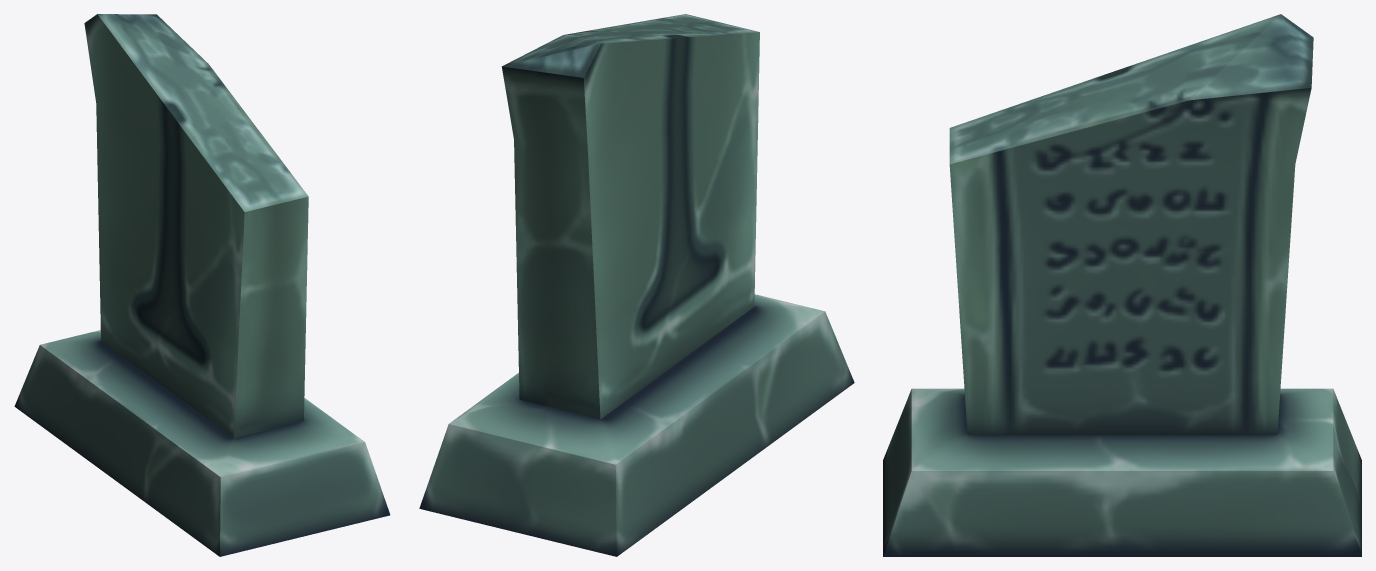
Rendered from tombstone_big_broken_01.fbx.
3 renders of one model, left to right at view 1: azimuth 30°, elevation 25°; view 2: azimuth 150°, elevation 25°; view 3: azimuth 270°, elevation 25°, orthographic. The views are drawn at different scales.
Parts seen in each view (by area): view 1: tombstone_big_broken_01; view 2: tombstone_big_broken_01; view 3: tombstone_big_broken_01.
Boxes of the visible parts, left/top/right/bottom form: tombstone_big_broken_01: left=14, top=14, right=390, bottom=556; tombstone_big_broken_01: left=419, top=14, right=854, bottom=556; tombstone_big_broken_01: left=883, top=14, right=1361, bottom=556.
Bounding box in the file's own units: 2.97 × 6.76 × 6.19.
